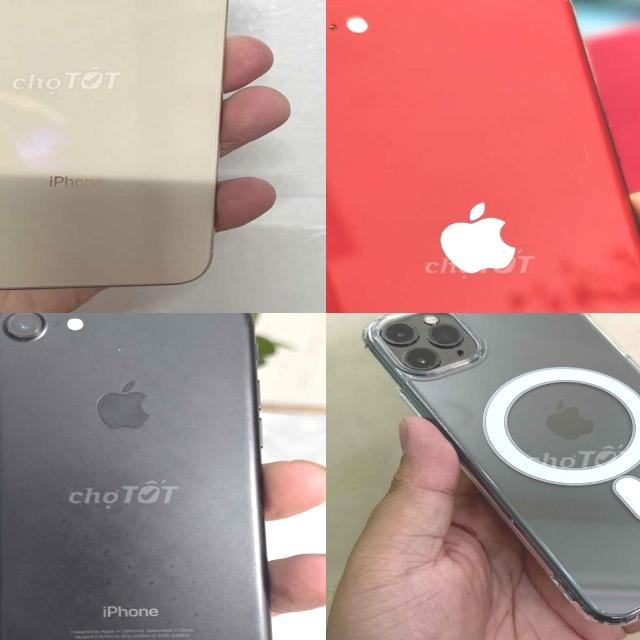scratch: (326, 256, 348, 294), (374, 40, 412, 61), (106, 334, 134, 355), (213, 313, 245, 319)
